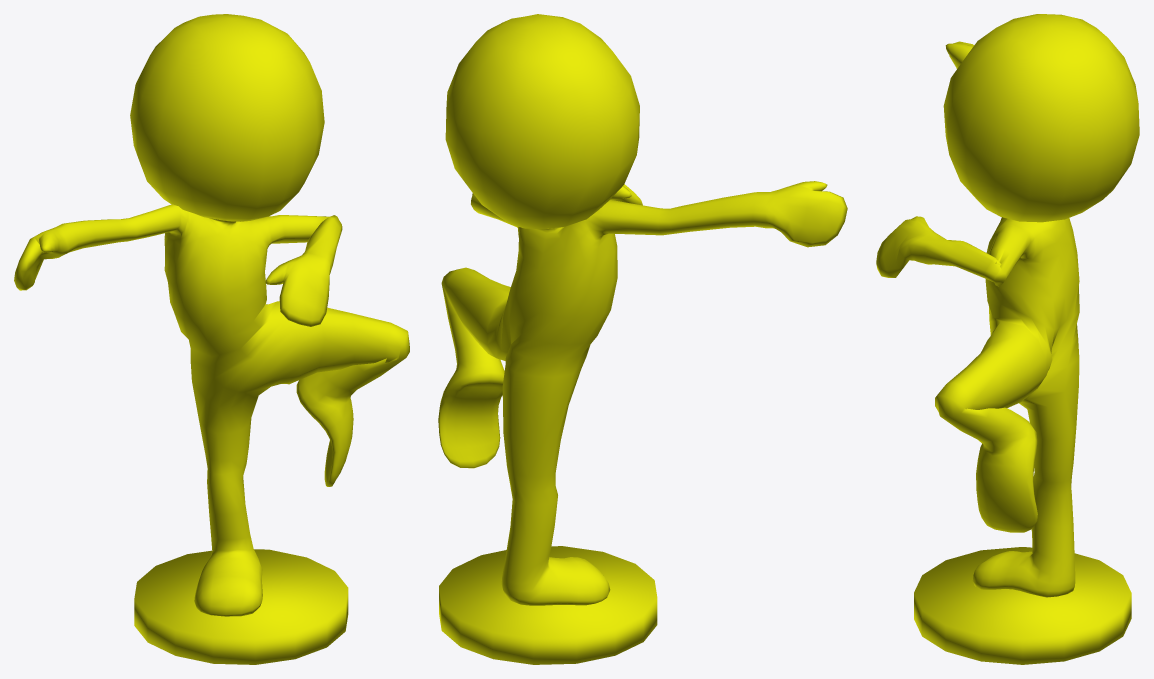
The model's file is Statuet.fbx.
3 renders of one model, left to right at view 1: azimuth 30°, elevation 25°; view 2: azimuth 150°, elevation 25°; view 3: azimuth 270°, elevation 25°, orthographic. The views are drawn at different scales.
Visible parts, largest first — view 1: Statuet; view 2: Statuet; view 3: Statuet.
Boxes of the visible parts, left/top/right/bottom form: Statuet: left=14, top=14, right=409, bottom=664; Statuet: left=438, top=14, right=847, bottom=664; Statuet: left=876, top=14, right=1139, bottom=664.
Bounding box in the file's own units: 70.74 × 102 × 40.92.
